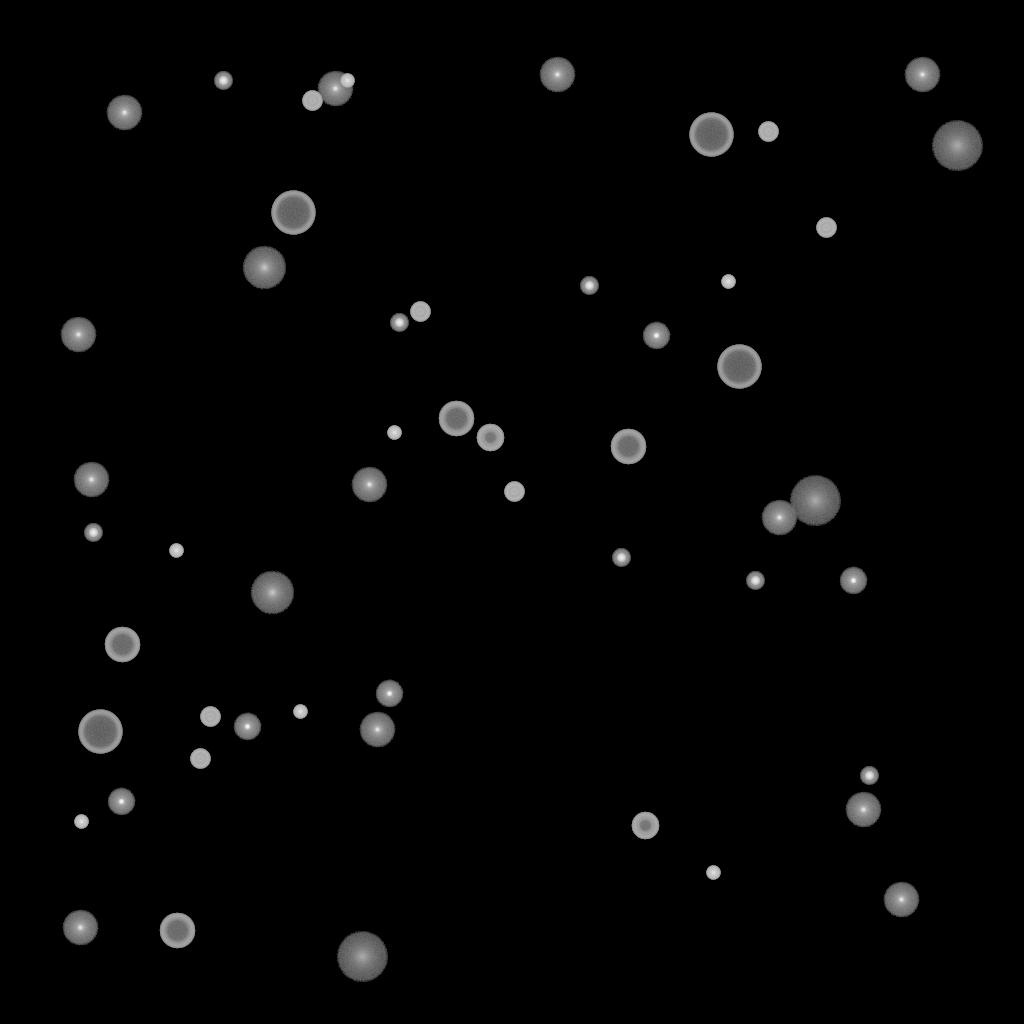depth:-10: (107, 788, 135, 816), (233, 713, 261, 741), (375, 680, 403, 708), (839, 567, 867, 595), (642, 322, 670, 350)
depth:-20: (84, 524, 102, 542), (612, 549, 630, 567), (860, 767, 878, 785), (390, 314, 408, 332), (746, 572, 764, 590), (580, 277, 598, 295), (214, 72, 232, 90)
depth:-30: (721, 275, 735, 289), (387, 426, 401, 440), (169, 544, 183, 558), (706, 866, 720, 880), (74, 815, 88, 829), (340, 74, 354, 88), (293, 705, 307, 719)
depth:-40: (302, 91, 322, 111), (200, 707, 220, 727), (410, 302, 430, 322), (504, 482, 524, 502), (816, 218, 836, 238), (758, 122, 778, 142), (190, 749, 210, 769)
depth:-50: (631, 812, 659, 840), (476, 424, 504, 452)
depth:-60: (159, 913, 195, 949), (104, 627, 140, 663), (438, 401, 474, 437), (610, 429, 646, 465)
depth:-70: (689, 113, 733, 157), (78, 710, 122, 754), (271, 191, 315, 235), (717, 345, 761, 389)
depth:0: (317, 71, 353, 107), (761, 500, 797, 536), (351, 467, 387, 503), (106, 95, 142, 131), (73, 462, 109, 498), (845, 792, 881, 828), (539, 57, 575, 93), (883, 882, 919, 918), (62, 910, 98, 946), (904, 57, 940, 93), (60, 317, 96, 353), (359, 712, 395, 748)
depth:10: (242, 246, 286, 290), (250, 571, 294, 615)
depth:20: (336, 932, 388, 982), (931, 121, 983, 171), (789, 476, 841, 526)
